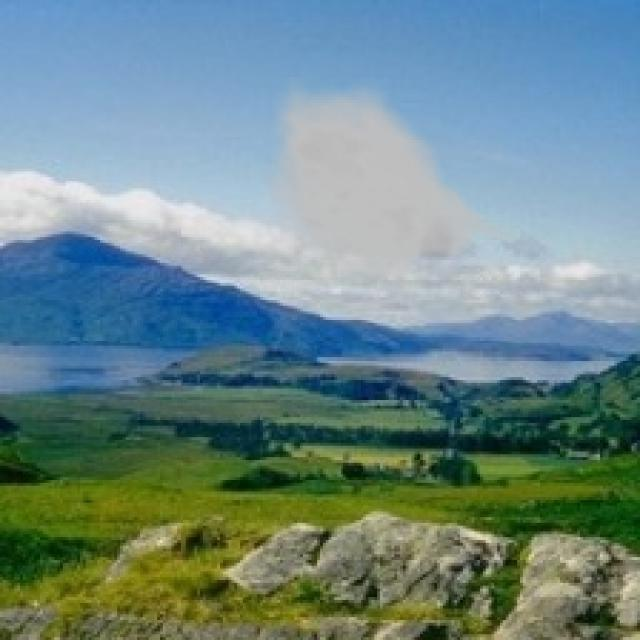Smoke: (260, 74, 526, 286)
